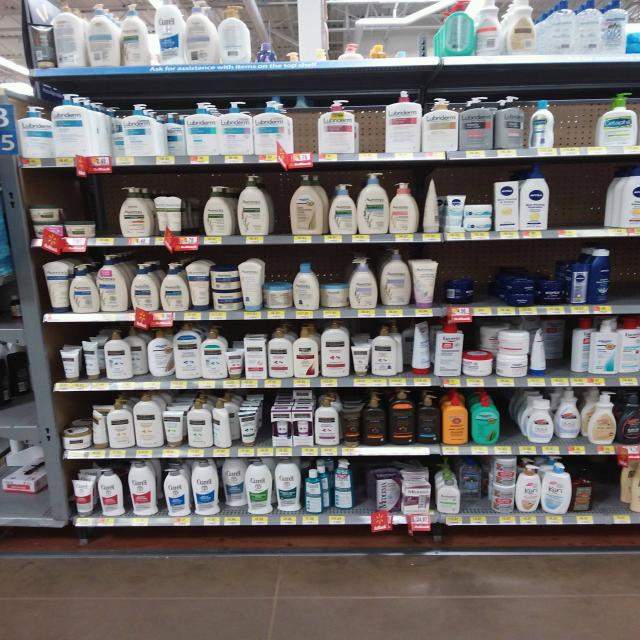void: (558, 160, 608, 226), (560, 87, 592, 150), (249, 4, 281, 67), (594, 453, 622, 524), (282, 4, 312, 70), (313, 0, 340, 67), (344, 0, 370, 66), (478, 257, 506, 314), (373, 1, 397, 67), (294, 95, 316, 165), (363, 92, 385, 160), (620, 245, 640, 314), (422, 0, 442, 67), (401, 0, 421, 65), (358, 458, 376, 526), (94, 180, 113, 243), (500, 389, 516, 454)
